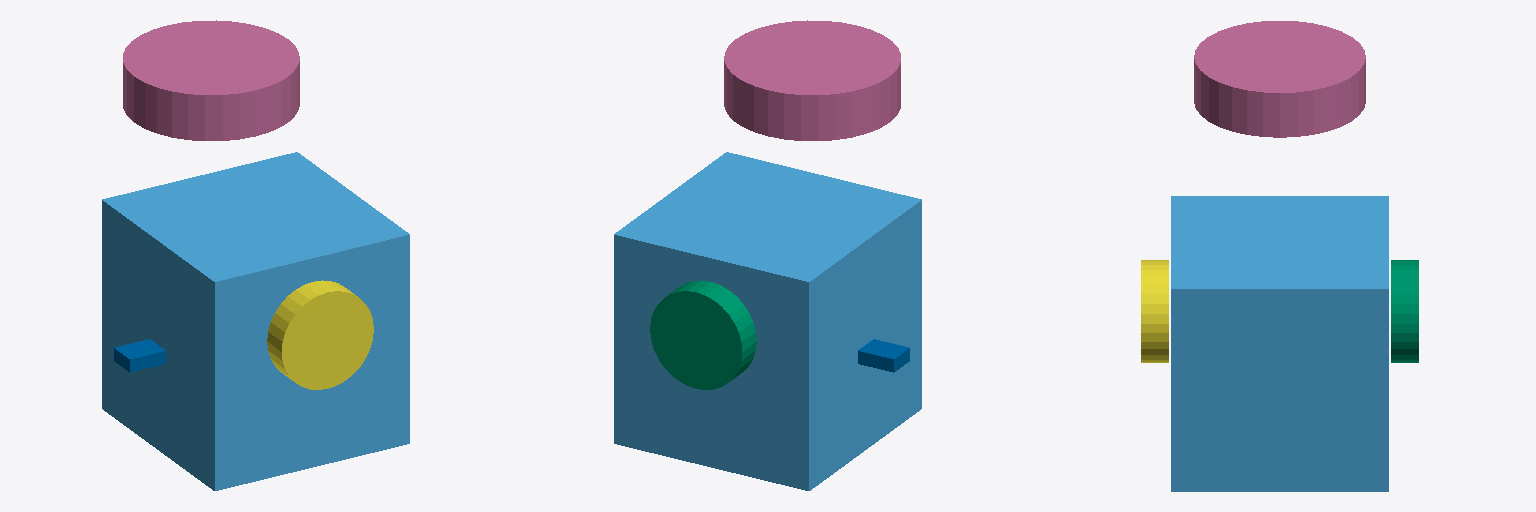
The robot description file, URDF, robot "turtlebot3_burger":
<?xml version="1.0"?>
<robot name="turtlebot3_burger">
  <link name="base_footprint" />
  <link name="base_link">
    <visual>
      <geometry>
        <box size="0.14 0.14 0.143" />
      </geometry>
    </visual>
    <collision>
      <geometry>
        <box size="0.14 0.14 0.143" />
      </geometry>
    </collision>
  </link>
  <link name="wheel_left">
    <visual>
      <geometry>
        <cylinder radius="0.033" length="0.018" />
      </geometry>
    </visual>
    <collision>
      <geometry>
        <cylinder radius="0.033" length="0.018" />
      </geometry>
    </collision>
  </link>
  <link name="wheel_right">
    <visual>
      <geometry>
        <cylinder radius="0.033" length="0.018" />
      </geometry>
    </visual>
    <collision>
      <geometry>
        <cylinder radius="0.033" length="0.018" />
      </geometry>
    </collision>
  </link>
  <link name="caster_back">
    <visual>
      <geometry>
        <box size="0.03 0.009 0.02" />
      </geometry>
    </visual>
    <collision>
      <geometry>
        <box size="0.03 0.009 0.02" />
      </geometry>
    </collision>
  </link>
  <link name="imu" />
  <link name="base_scan">
    <visual>
      <geometry>
        <cylinder radius="0.055" length="0.0315" />
      </geometry>
    </visual>
    <collision>
      <geometry>
        <cylinder radius="0.055" length="0.0315" />
      </geometry>
    </collision>
  </link>
  <joint name="base_footprint_to_base_link" type="fixed">
    <parent link="base_footprint" />
    <child link="base_link" />
    <origin xyz="0 0 0.01" />
  </joint>
  <joint name="base_link_to_wheel_left" type="continuous">
    <parent link="base_link" />
    <child link="wheel_left" />
    <origin xyz="0 0.08 0.023" rpy="-1.57 0 0" />
    <axis xyz="0 0 1" />
  </joint>
  <joint name="base_link_to_wheel_right" type="continuous">
    <parent link="base_link" />
    <child link="wheel_right" />
    <origin xyz="0 -0.08 0.023" rpy="-1.57 0 0" />
    <axis xyz="0 0 1" />
  </joint>
  <joint name="base_link_to_caster_back" type="fixed">
    <parent link="base_link" />
    <child link="caster_back" />
    <origin xyz="-0.081 0 -0.004" rpy="-1.57 0 0" />
  </joint>
  <joint name="base_link_to_imu" type="fixed">
    <parent link="base_link" />
    <child link="imu" />
    <origin xyz="-0.032 0 0.068" />
  </joint>
  <joint name="base_link_to_base_scan" type="fixed">
    <parent link="base_link" />
    <child link="base_scan" />
    <origin xyz="-0.032 0 0.172" />
  </joint>
</robot>

--- What the picture shows (computed from the rendered views, not written in the file) ---
Views: 3 orthographic renders of the robot side by side, from view 1: azimuth 30°, elevation 25°; view 2: azimuth 150°, elevation 25°; view 3: azimuth 270°, elevation 25°.
Robot: turtlebot3_burger — 7 links, 6 joints (2 continuous, 4 fixed); root link base_footprint; default pose: all joints at 0.
Visible links, largest first — view 1: base_link, base_scan, wheel_right, caster_back; view 2: base_link, base_scan, wheel_left, caster_back; view 3: base_link, base_scan, wheel_left, wheel_right.
Link boxes in pixels (x1,y1,x2,y2): base_link: [102, 152, 409, 490]; base_scan: [123, 20, 299, 140]; wheel_right: [267, 280, 373, 389]; caster_back: [114, 339, 165, 372]; base_link: [614, 152, 921, 490]; base_scan: [724, 20, 900, 140]; wheel_left: [650, 280, 756, 389]; caster_back: [858, 339, 909, 372]; base_link: [1171, 196, 1388, 491]; base_scan: [1194, 21, 1365, 137]; wheel_left: [1391, 260, 1418, 362]; wheel_right: [1141, 260, 1168, 362].
Size in the robot's own frame: 0.166 by 0.1781 by 0.2593 metres.
Geometry: primitives only (box / cylinder / sphere), no mesh files.